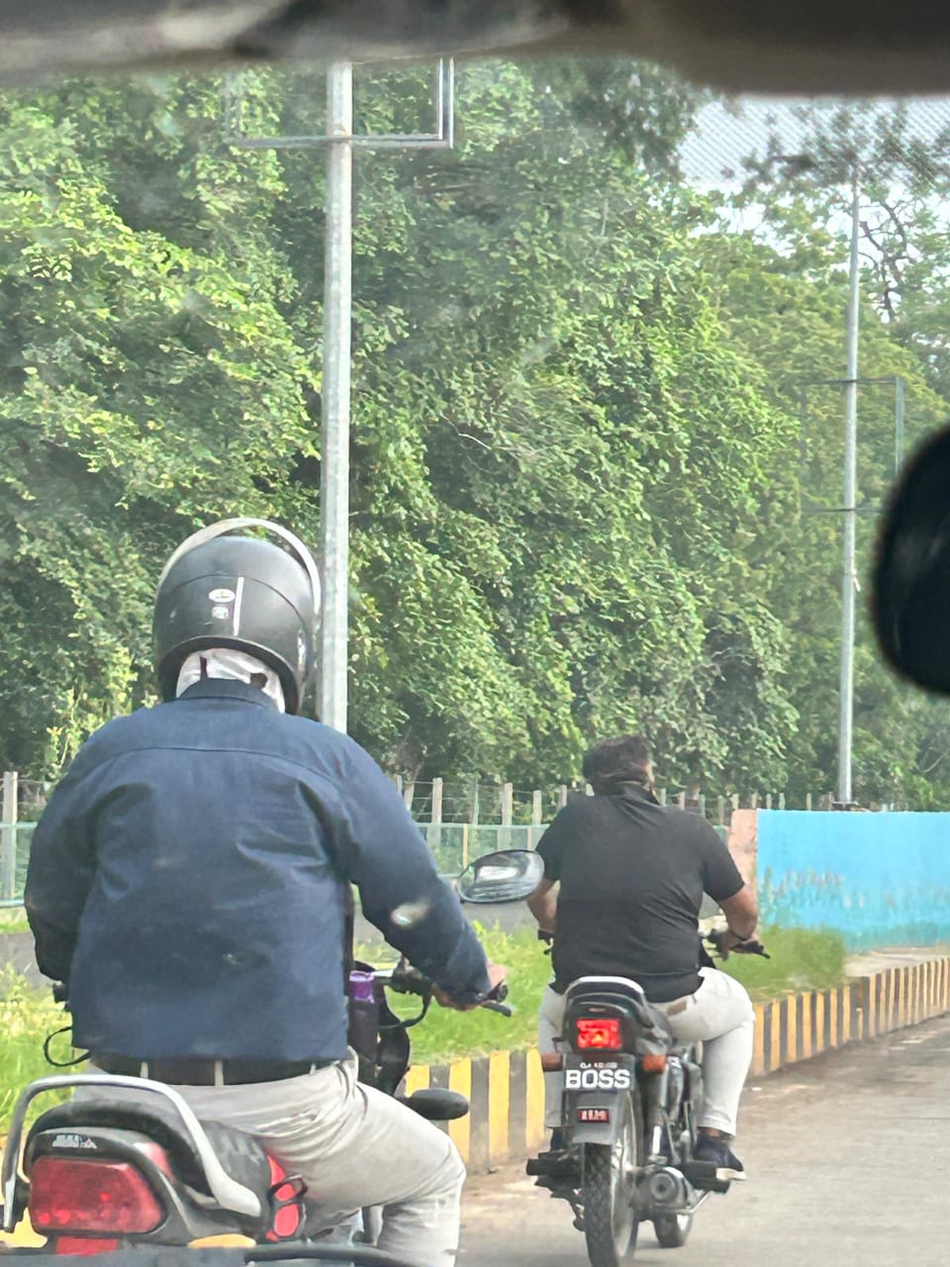BikeWithRider: (12, 506, 499, 1267), (493, 712, 809, 1264)
Helmet: (120, 500, 339, 733)
NoHelmet: (581, 720, 672, 800)
